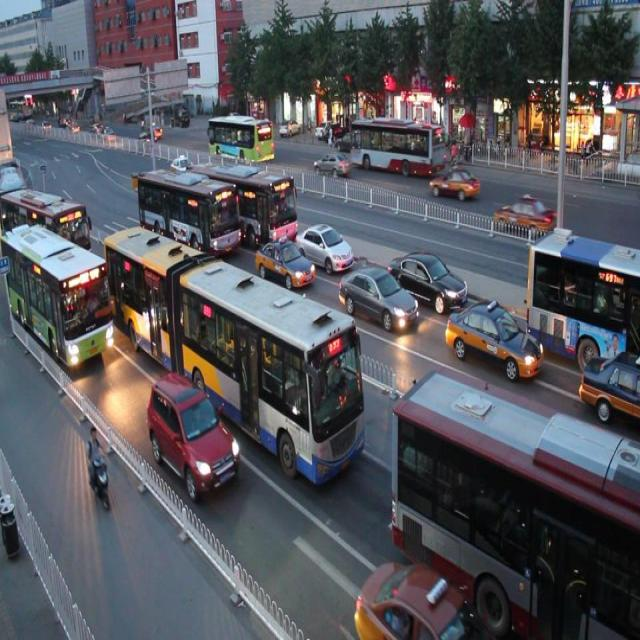car: (145, 372, 237, 500), (354, 553, 482, 640), (446, 294, 544, 382), (337, 258, 416, 331), (390, 243, 468, 309), (576, 349, 640, 419), (253, 230, 314, 289), (294, 214, 352, 273), (67, 256, 114, 309)
van: (102, 218, 366, 482), (394, 367, 640, 640), (1, 221, 114, 373), (526, 231, 640, 371), (136, 160, 240, 262), (191, 153, 298, 248), (1, 182, 90, 272)
